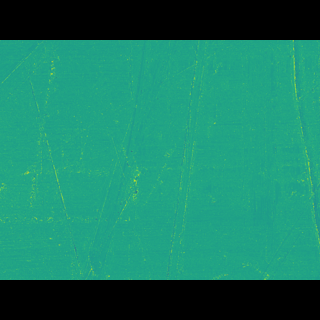Loch: (68, 70, 177, 250), (239, 68, 320, 222), (158, 69, 215, 250)
